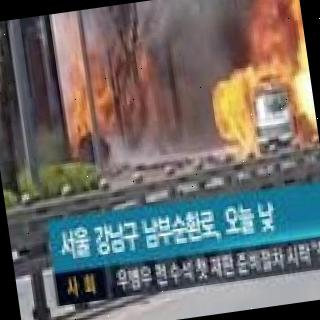fire: (258, 0, 319, 151), (203, 66, 280, 158), (64, 81, 92, 141)
